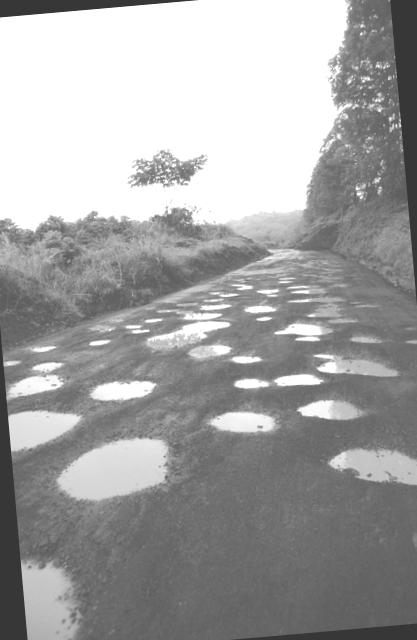Pothole: (45, 430, 194, 503), (19, 540, 94, 640), (328, 431, 417, 510), (8, 399, 88, 470), (146, 302, 227, 354), (201, 398, 281, 448), (310, 348, 402, 389), (291, 384, 365, 426), (84, 378, 160, 414), (8, 360, 72, 396), (287, 274, 343, 312), (276, 317, 334, 346), (184, 337, 239, 361), (273, 367, 324, 392), (230, 373, 278, 396), (244, 298, 278, 324), (230, 347, 265, 368), (346, 328, 386, 346), (84, 333, 118, 354), (123, 320, 150, 336), (407, 521, 417, 560)
